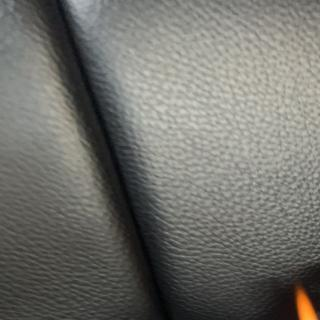fire: (293, 281, 320, 320)
